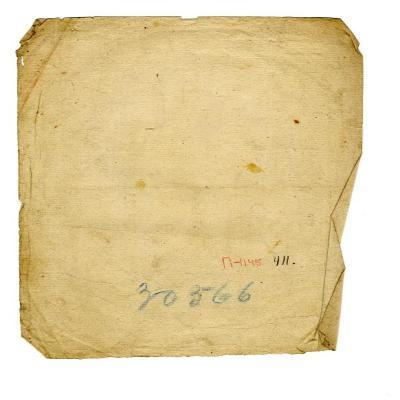graphics: (15, 16, 364, 362)
